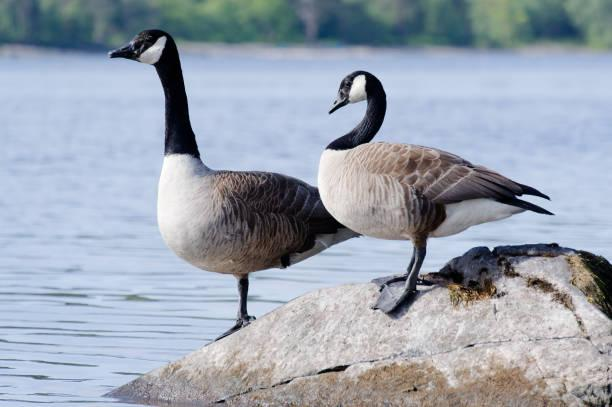Canadian-Goose: (107, 30, 327, 308), (321, 68, 550, 308)
